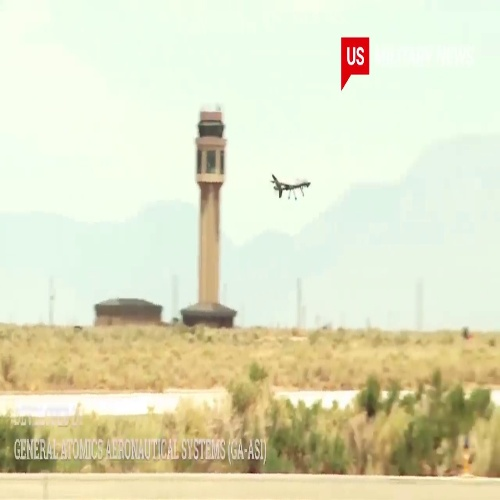uav155: (265, 171, 312, 204)
